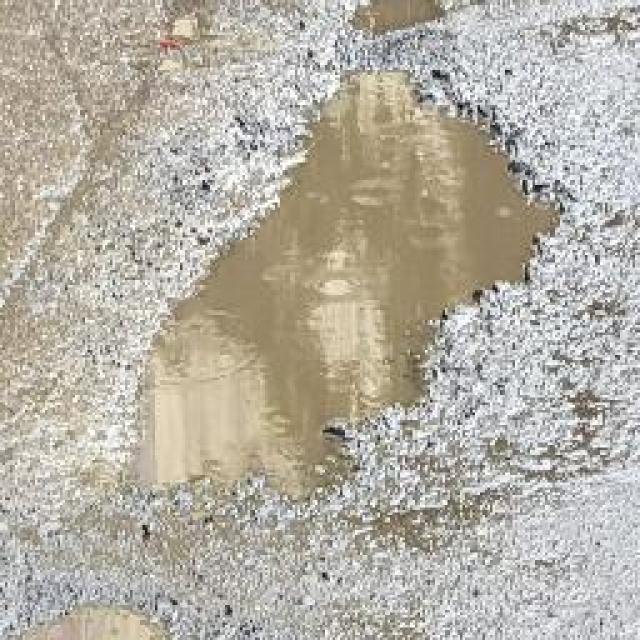stagnation: (104, 76, 576, 516)
